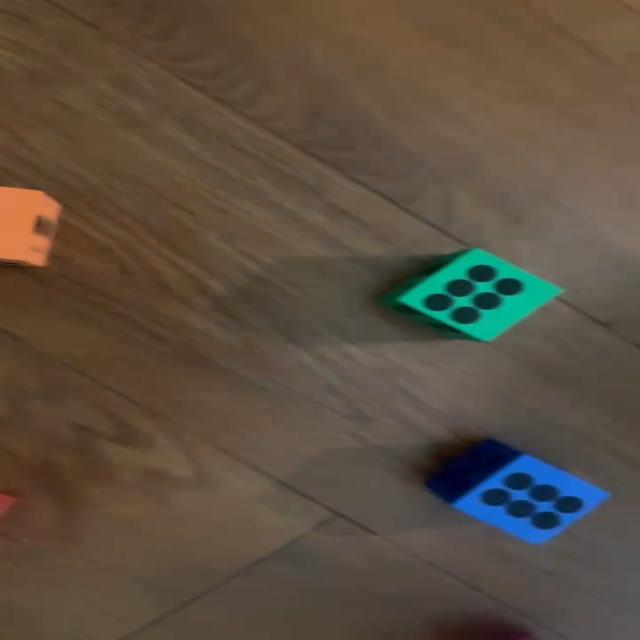blue_block: (427, 441, 609, 544)
